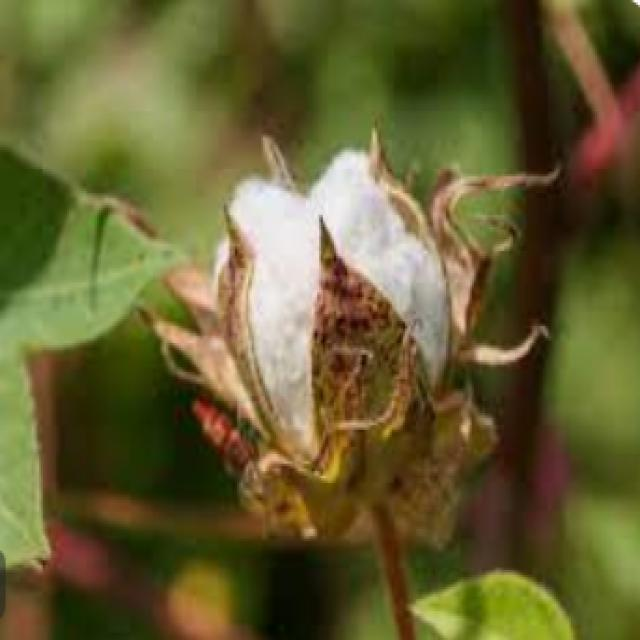Split Cotton Boll: (204, 145, 493, 501)
